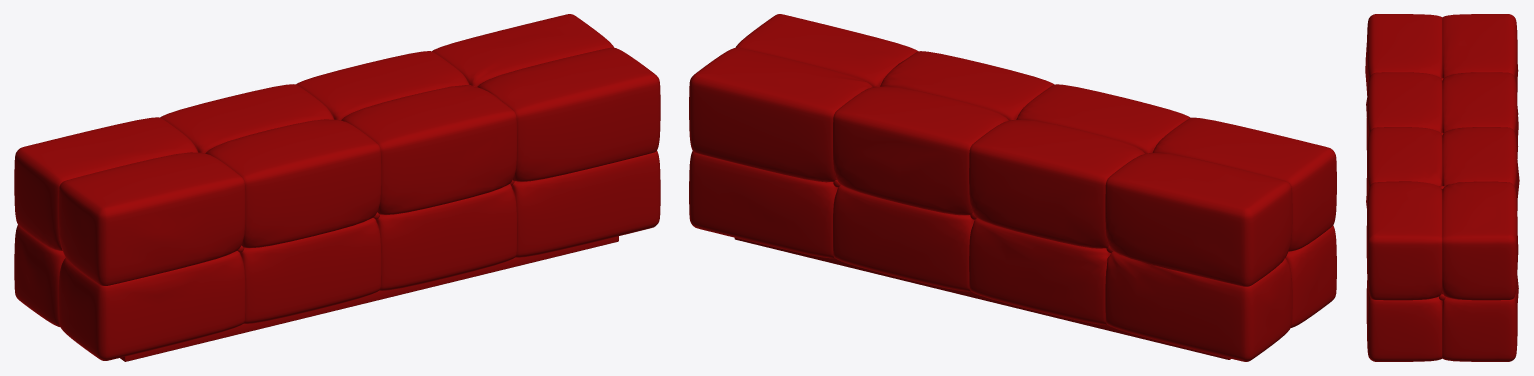
3 renders of one model, left to right at view 1: azimuth 30°, elevation 25°; view 2: azimuth 150°, elevation 25°; view 3: azimuth 270°, elevation 25°, orthographic. The views are drawn at different scales.
Parts seen in each view (by area): view 1: mesh13_mesh13-geometry, mesh12_mesh12-geometry; view 2: mesh13_mesh13-geometry, mesh12_mesh12-geometry; view 3: mesh13_mesh13-geometry.
Part boxes in pixels (x1,y1,x2,y2): mesh13_mesh13-geometry: (14, 14, 660, 360); mesh12_mesh12-geometry: (120, 236, 618, 361); mesh13_mesh13-geometry: (689, 14, 1336, 361); mesh12_mesh12-geometry: (734, 238, 1230, 359); mesh13_mesh13-geometry: (1365, 14, 1519, 361).
Size of the model in its own units: 0.9285 by 0.2593 by 0.2657.
